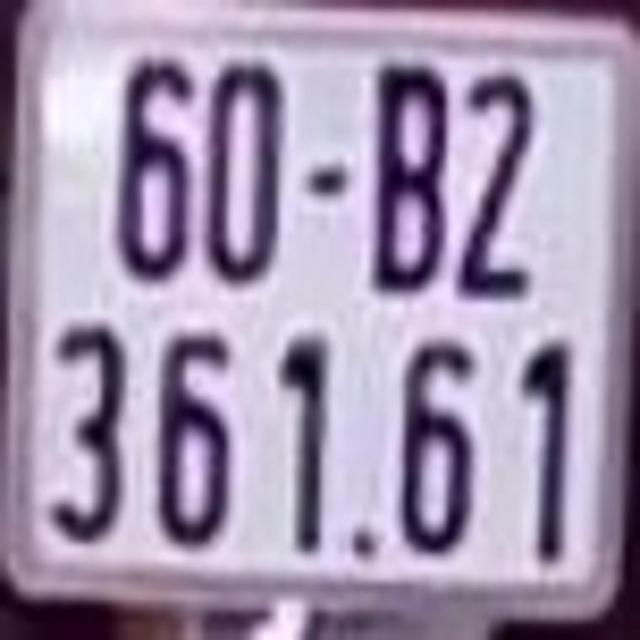0: (204, 58, 284, 288)
1: (272, 324, 332, 554), (516, 330, 568, 565)
2: (456, 66, 540, 300)
3: (47, 314, 124, 544)
6: (392, 332, 478, 556), (152, 318, 236, 546), (109, 52, 192, 282)
B: (366, 62, 449, 294)
